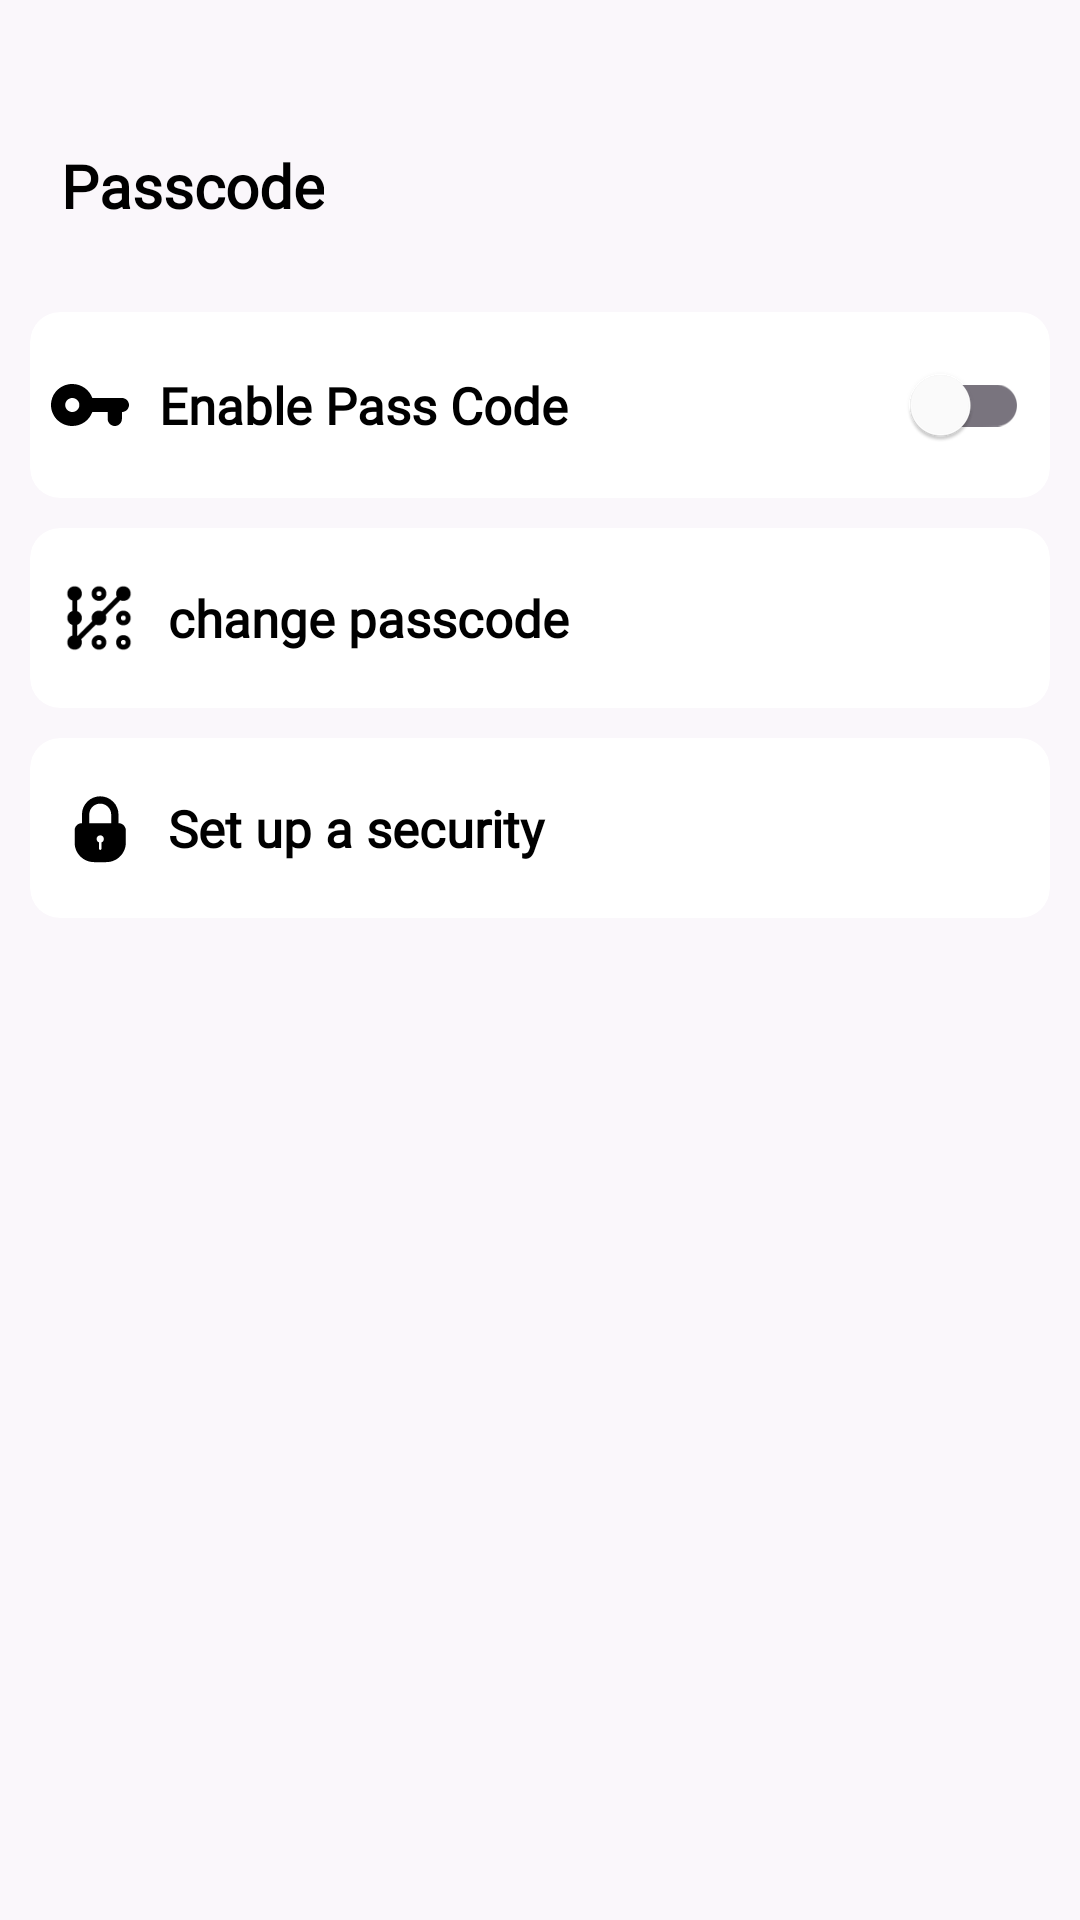

Named icons in this screenshot (1080x1920) and their centers, (x,y):
key: (90,405)
lock: (100,829)
pattern: (99,618)
